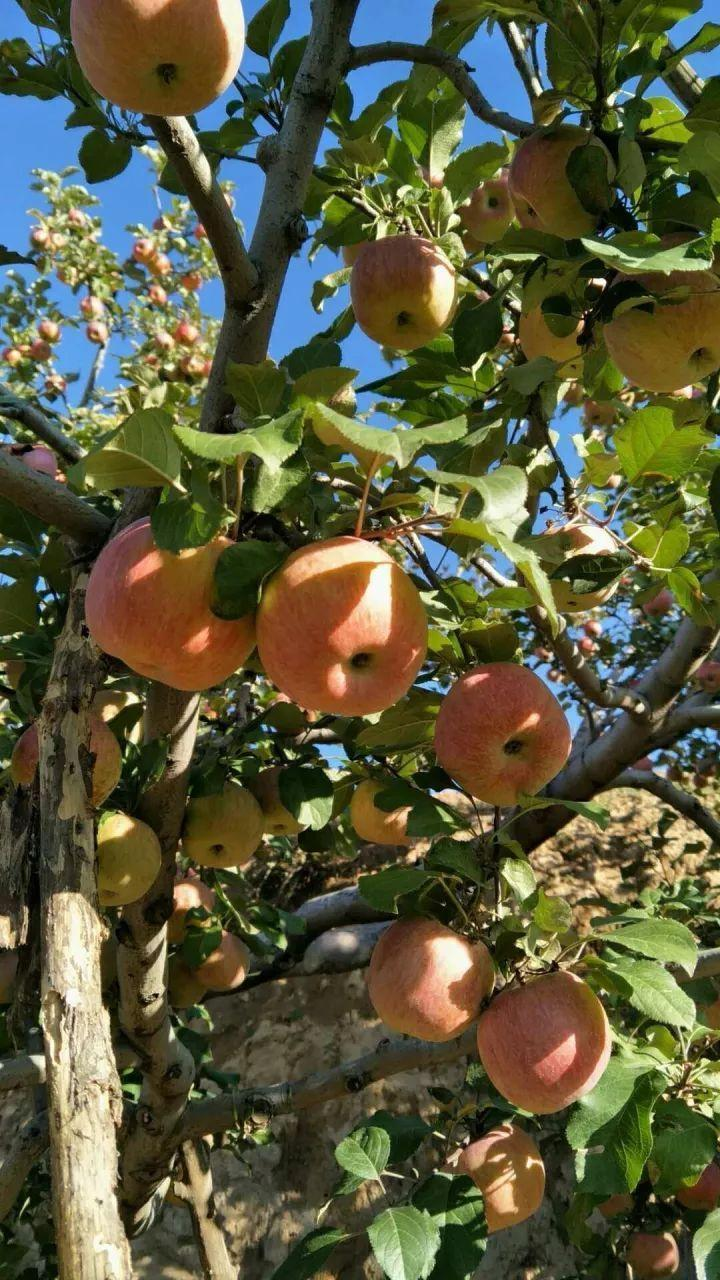apple: (255, 533, 428, 724), (88, 515, 260, 692), (433, 660, 570, 810), (70, 1, 245, 118), (475, 969, 612, 1117), (368, 914, 494, 1049), (603, 271, 717, 388), (345, 238, 454, 353), (508, 125, 605, 240), (459, 1128, 545, 1230), (179, 784, 265, 871), (455, 176, 515, 246), (194, 931, 251, 994)
